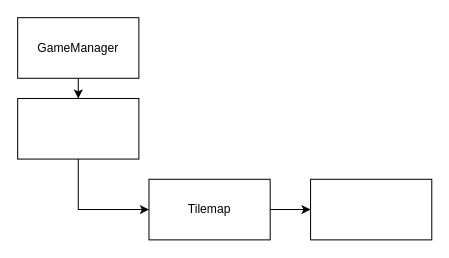
Image size: 449x258. Some labels were removed from this diagram. The shapes that lost their labels are listed below. From the top down, each one's box as (x1, y1, x2, y2) in pixels, then its label:
(17, 97, 139, 159): World
(310, 178, 432, 240): Entities
